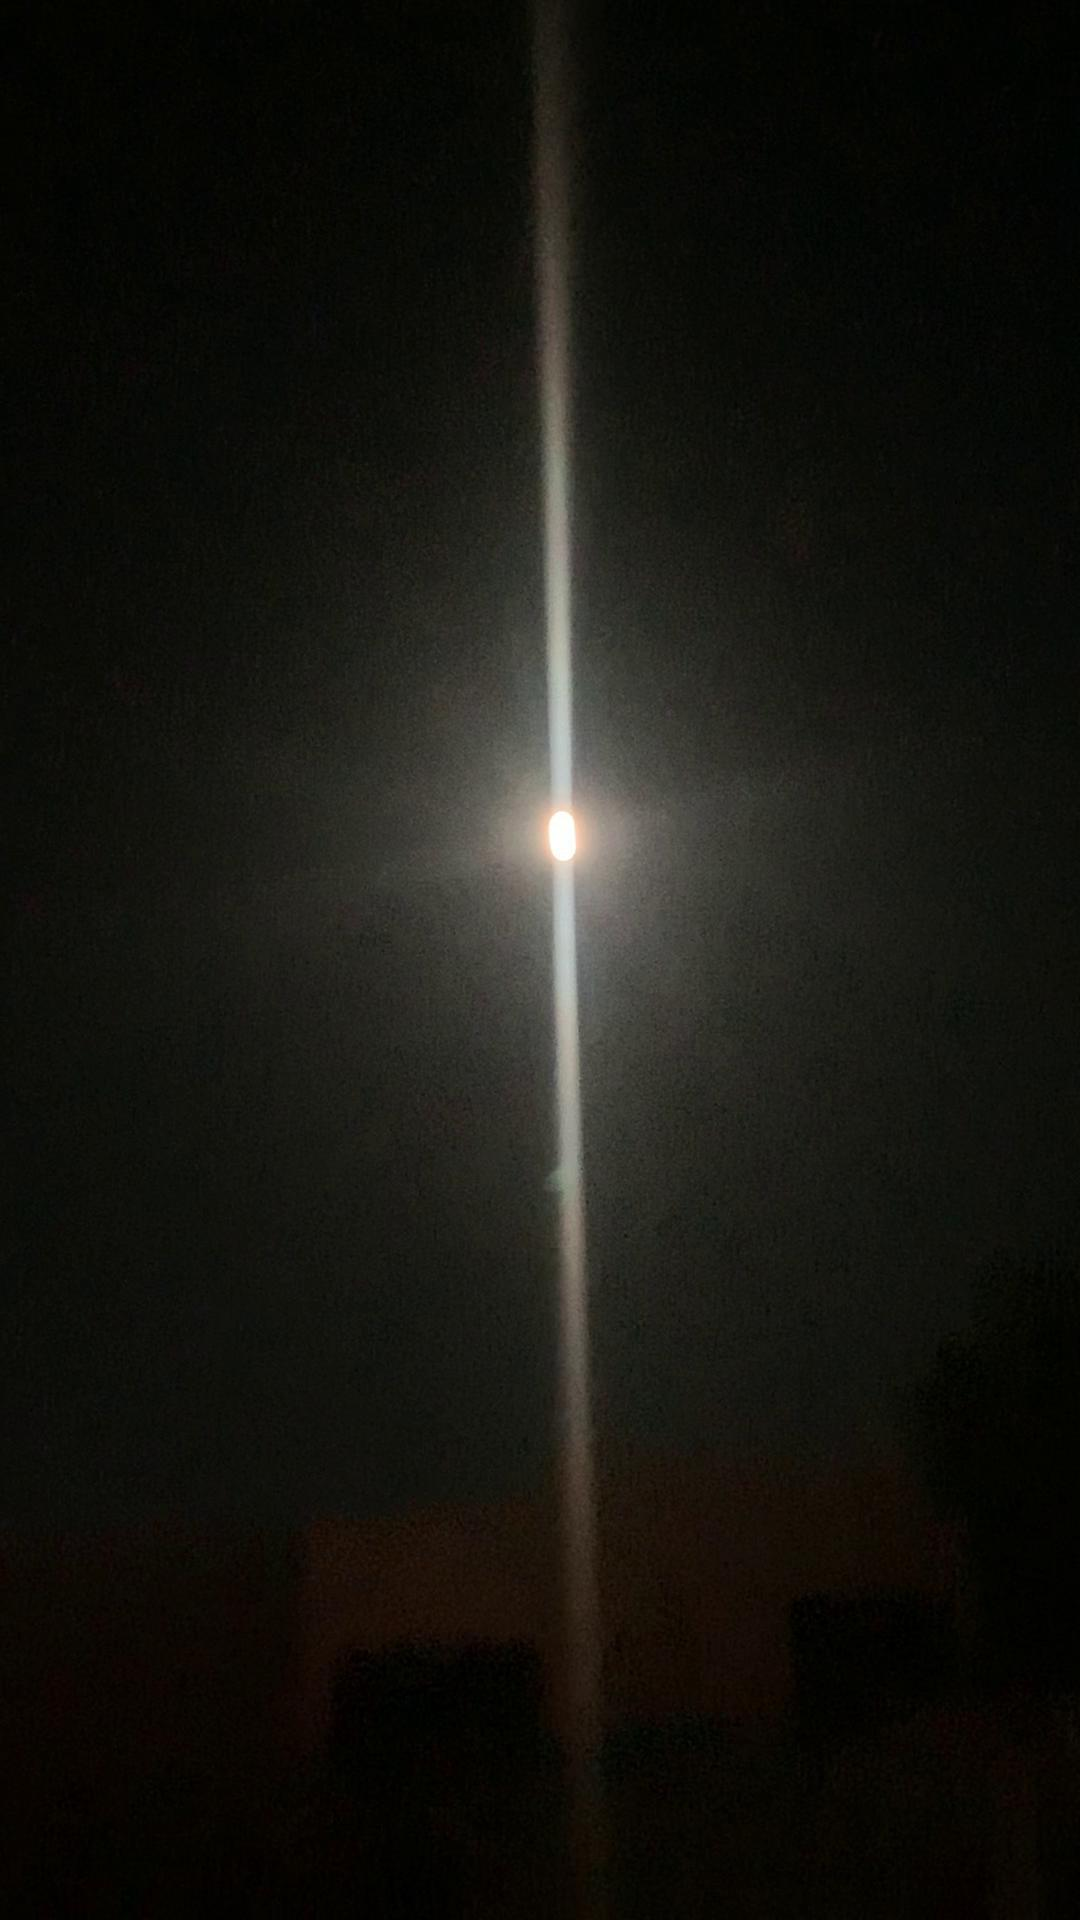moon: (513, 800, 618, 884)
